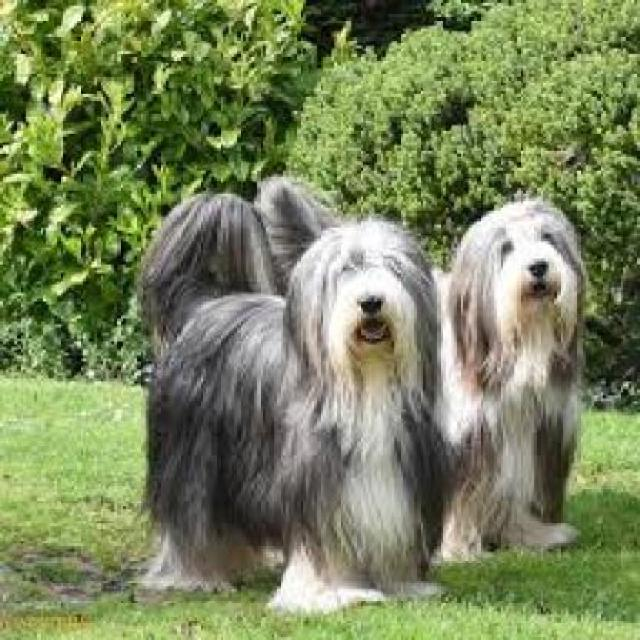animals: (123, 176, 443, 607), (446, 175, 592, 571)
